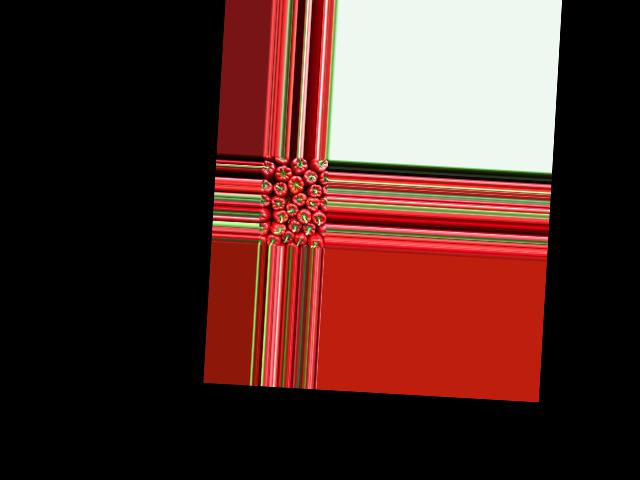bell_pepper: (309, 233, 324, 247)
